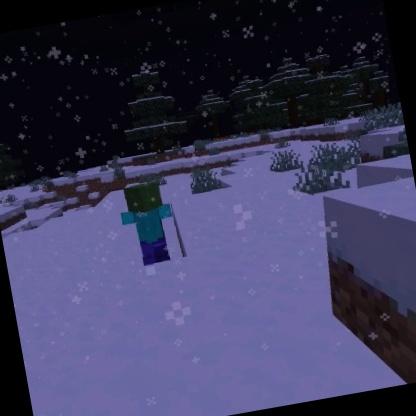zombie: (111, 176, 183, 270)
